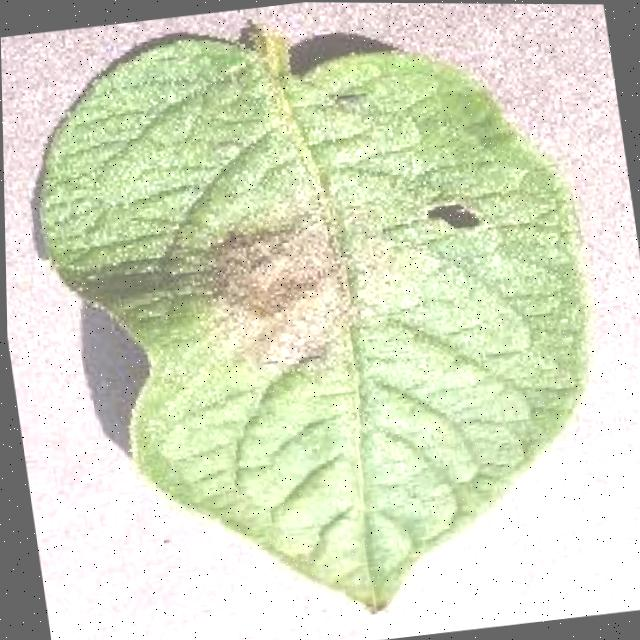Late_blight: (172, 185, 401, 414)
